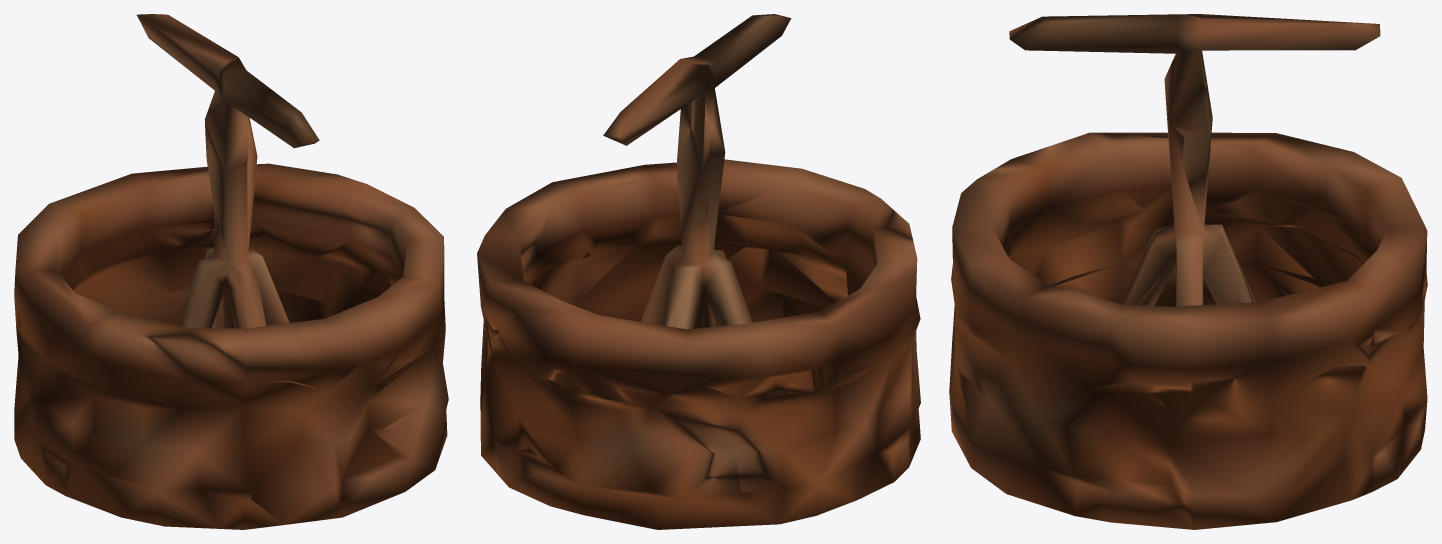
The model's file is gen3d-clay-well-lod1.glb.
The picture shows the model from 3 angles, left to right: view 1: azimuth 30°, elevation 25°; view 2: azimuth 150°, elevation 25°; view 3: azimuth 270°, elevation 25°; orthographic projection. The views are drawn at different scales.
Visible parts, largest first — view 1: part_0; view 2: part_0; view 3: part_0.
Part boxes in pixels (x1=…): part_0: x1=14, y1=14, x2=448, y2=529; part_0: x1=477, y1=14, x2=920, y2=529; part_0: x1=949, y1=14, x2=1427, y2=529.
Bounding box in the file's own units: 1.04 × 0.9919 × 1.04.
